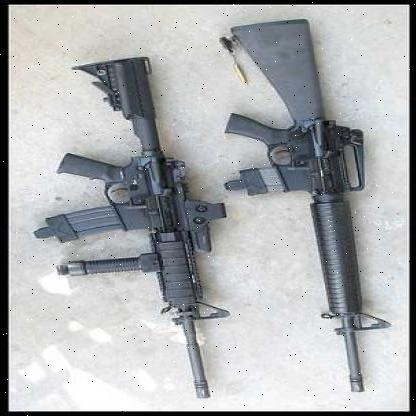rifle: (12, 59, 253, 409), (192, 11, 394, 398)
